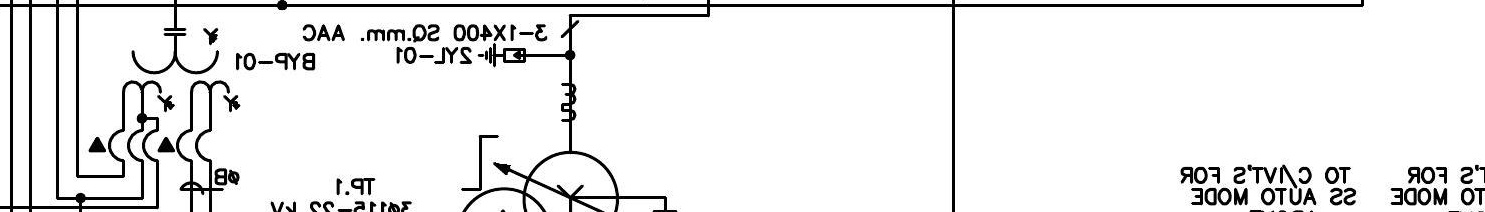115_cvt_3p: (121, 28, 241, 113)
115_la: (477, 42, 526, 68)
